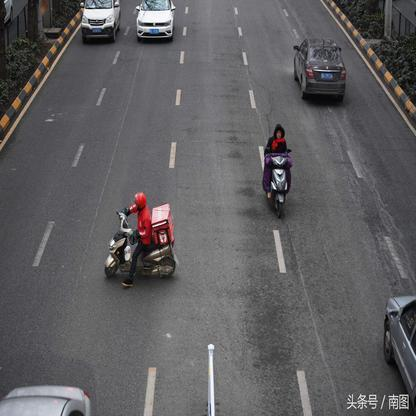target: (95, 187, 190, 290), (252, 121, 303, 217)
